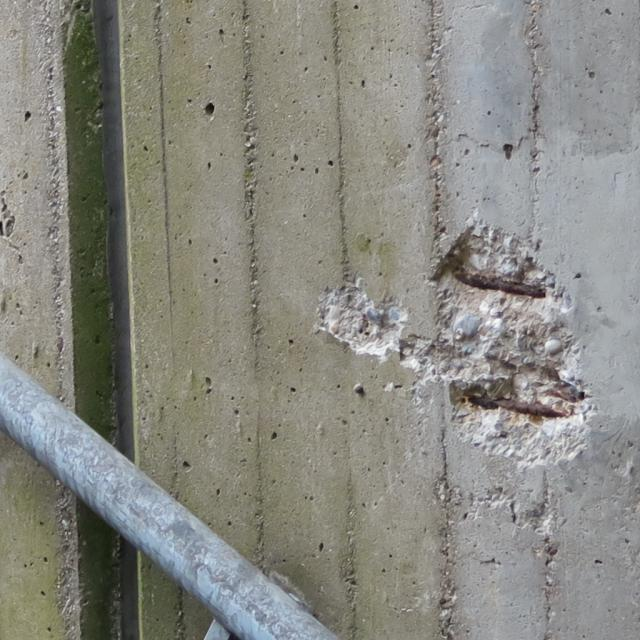D10: (318, 222, 592, 465)
